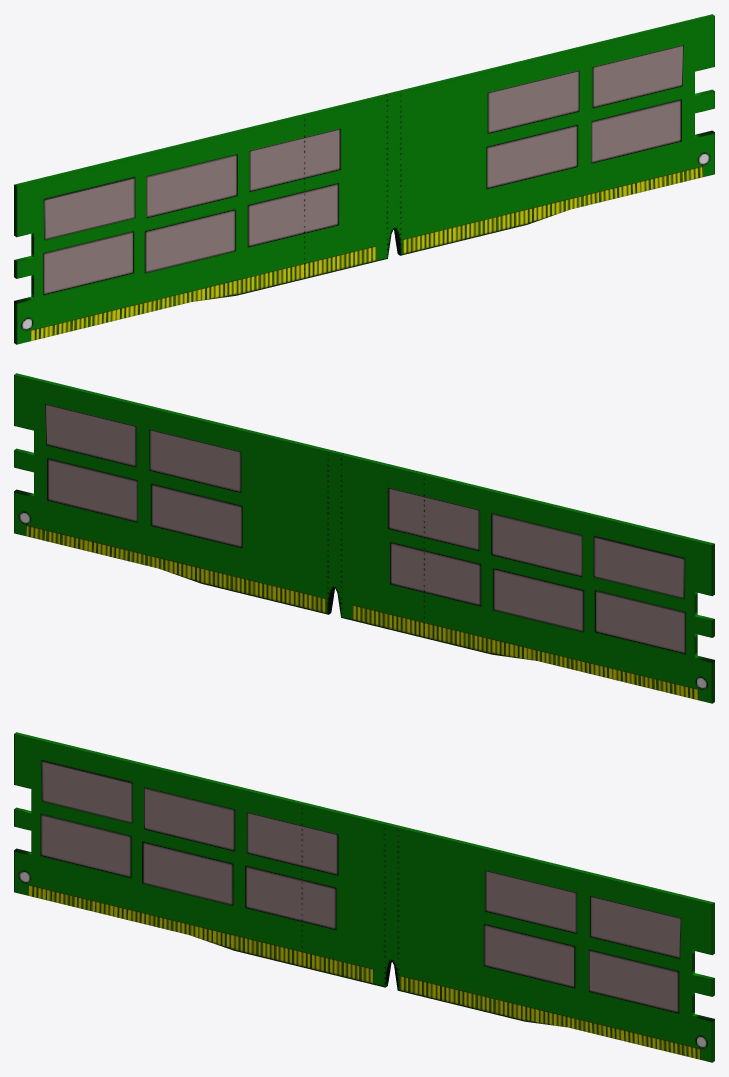
The model's file is ProtoRAM.obj.
3 views of the same model, one above another, from view 1: azimuth 30°, elevation 25°; view 2: azimuth 150°, elevation 25°; view 3: azimuth 330°, elevation 25° (orthographic).
Visible parts, largest first — view 1: Plane; view 2: Plane; view 3: Plane.
Part boxes in pixels (x1,y1,x2,y2): Plane: [14, 14, 714, 344]; Plane: [14, 373, 714, 703]; Plane: [14, 732, 714, 1062].
Bounding box in the file's own units: 3.21 × 0.7157 × 0.02.
1 material, 1 textured.
